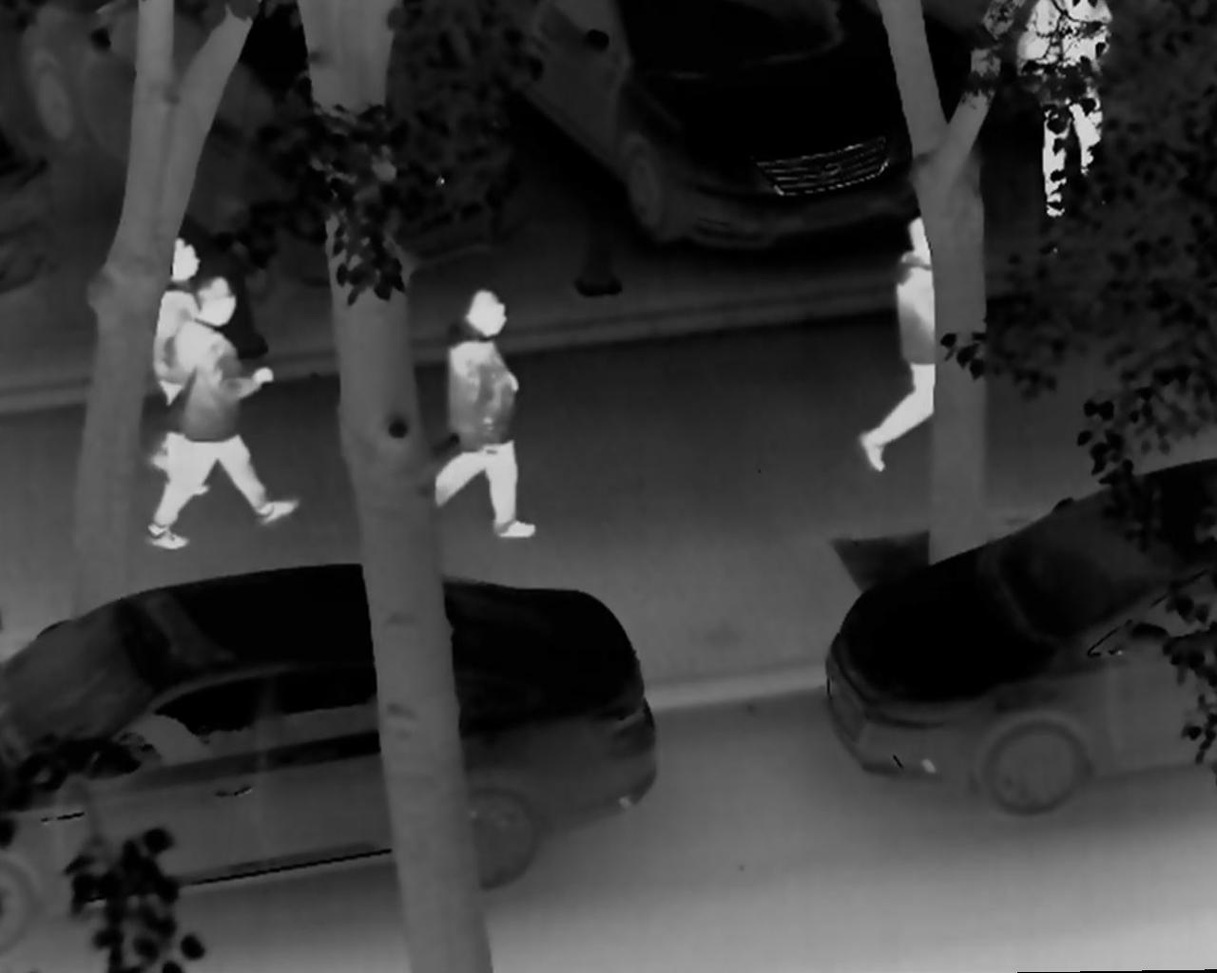person: (142, 275, 299, 548), (426, 287, 536, 538), (859, 216, 942, 472), (147, 236, 211, 499)
